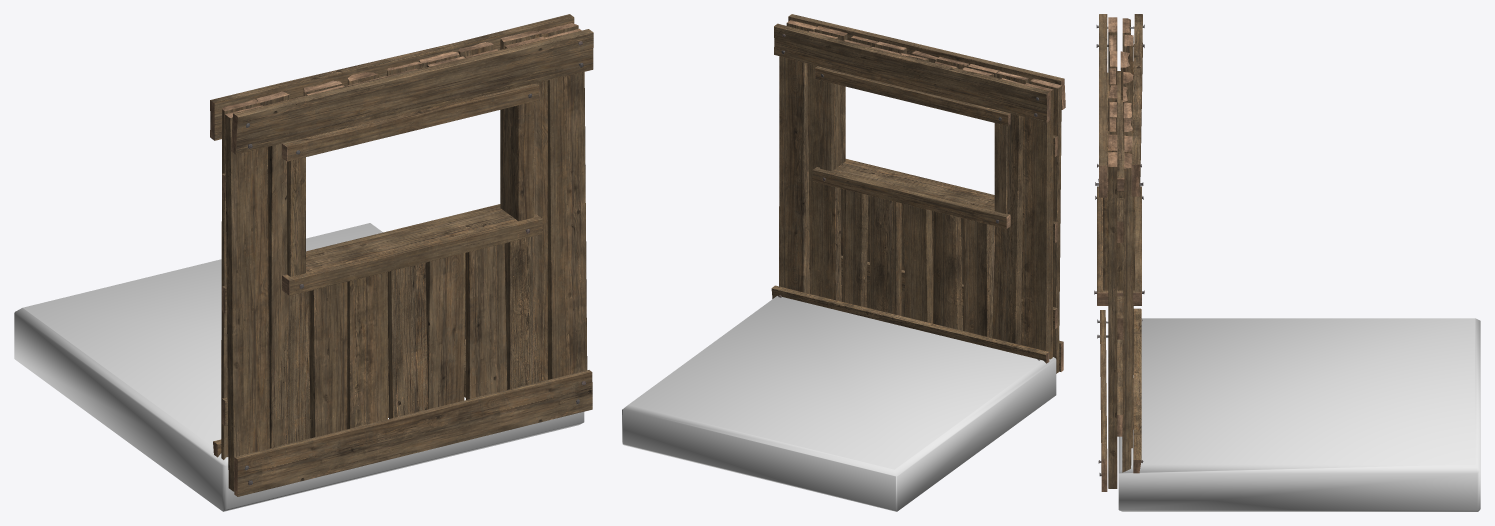
The model's file is SM_Wall_Window_A_P1_.fbx.
3 views of the same model, side by side, from view 1: azimuth 30°, elevation 25°; view 2: azimuth 150°, elevation 25°; view 3: azimuth 270°, elevation 25° (orthographic). The views are drawn at different scales.
Visible parts, largest first — view 1: SM_Wall_Window_A_P1_, SM_Wall_Window_A_P1__ConvexHulls; view 2: SM_Wall_Window_A_P1_, SM_Wall_Window_A_P1__ConvexHulls; view 3: SM_Wall_Window_A_P1__ConvexHulls, SM_Wall_Window_A_P1_.
Boxes of the visible parts, box(x1,y1,x2,y2) form: SM_Wall_Window_A_P1_: box(210, 14, 593, 496); SM_Wall_Window_A_P1__ConvexHulls: box(14, 223, 584, 511); SM_Wall_Window_A_P1_: box(771, 14, 1065, 373); SM_Wall_Window_A_P1__ConvexHulls: box(622, 296, 1056, 511); SM_Wall_Window_A_P1__ConvexHulls: box(1118, 318, 1480, 511); SM_Wall_Window_A_P1_: box(1094, 14, 1144, 491).
Size of the model in its own units: 3.02 by 3.24 by 3.26.
